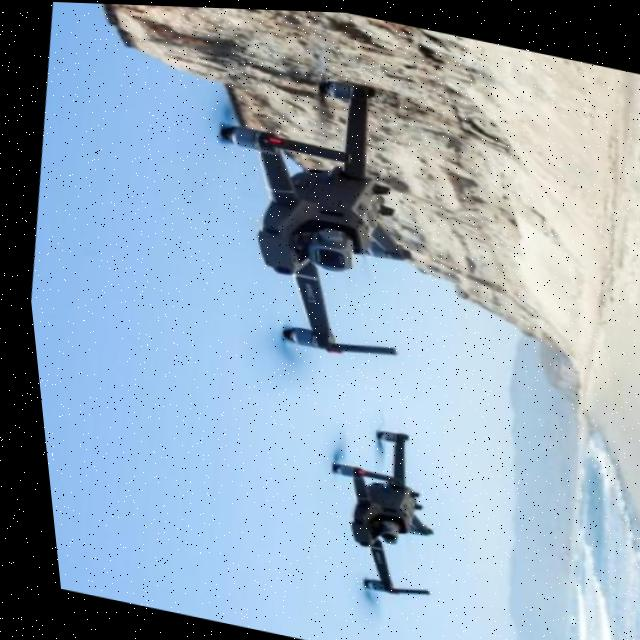drones: (142, 41, 442, 388), (272, 402, 460, 620)
